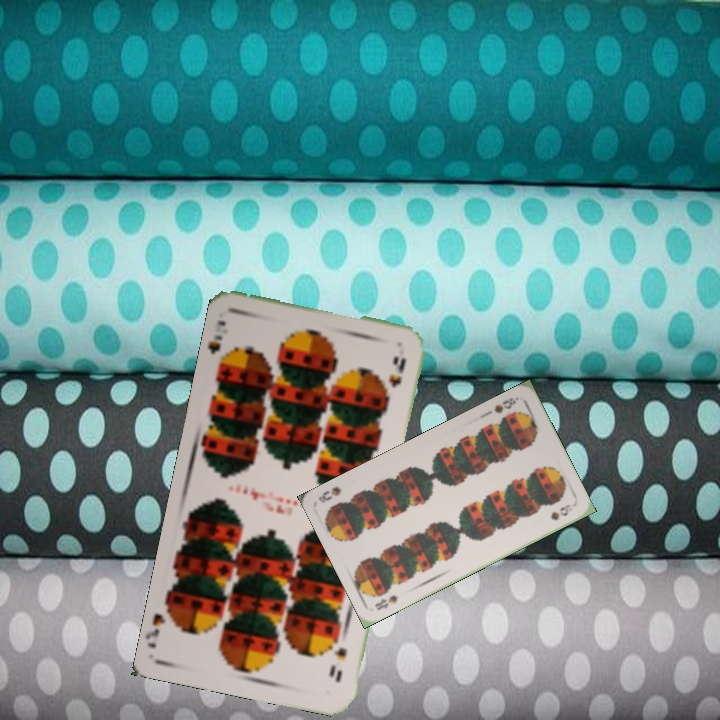S8: (490, 393, 521, 416), (371, 591, 401, 613)
S9: (206, 316, 234, 370), (328, 643, 350, 686)
